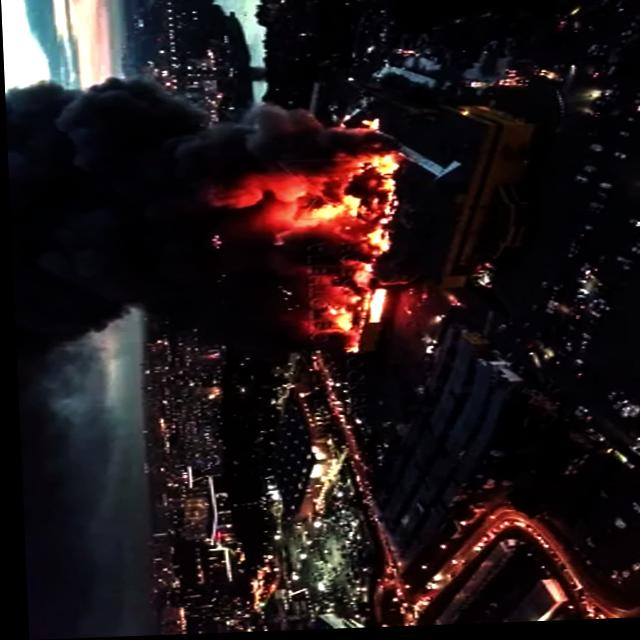Smoke: (4, 72, 367, 373)
